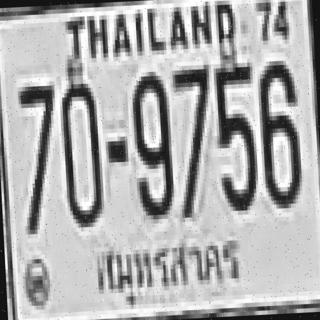N00: (59, 79, 102, 224)
N05: (213, 58, 257, 212)
N06: (256, 56, 300, 205)
N07: (16, 81, 60, 230), (171, 65, 215, 214)
N09: (128, 67, 172, 216)
P58: (90, 230, 244, 309)
